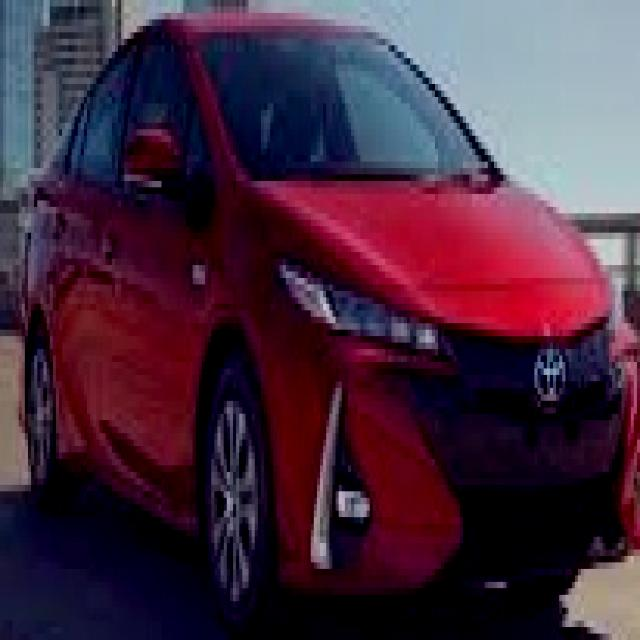red: (16, 16, 640, 602)
